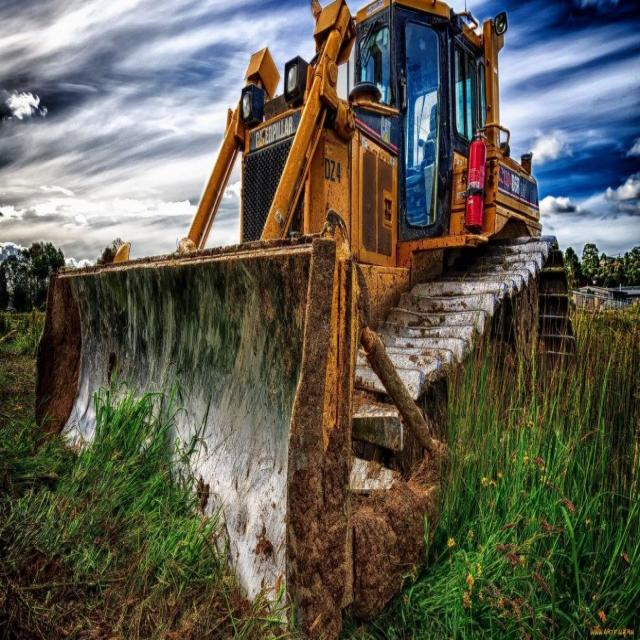Bulldozer: (27, 4, 593, 612)
